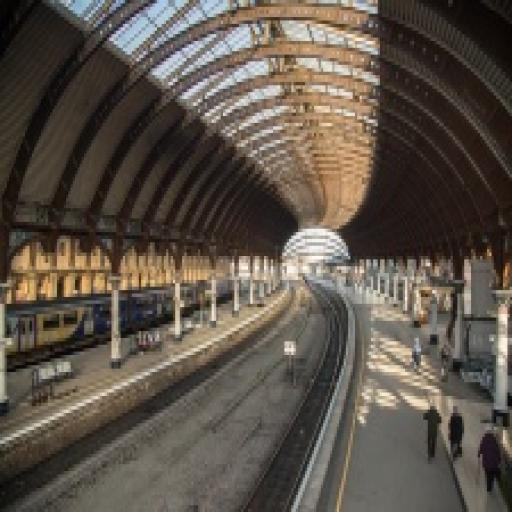platform_edge: (302, 335, 378, 512)
